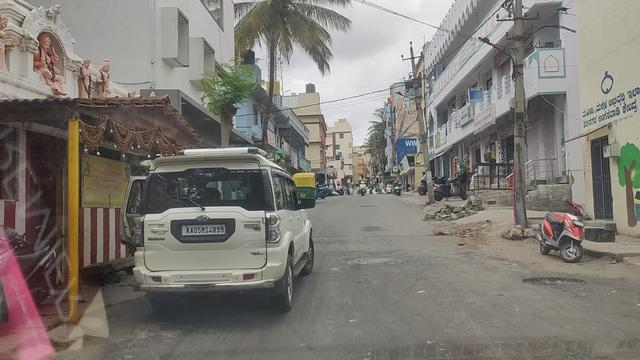RoadDamages: (344, 255, 406, 272), (521, 274, 586, 290)
